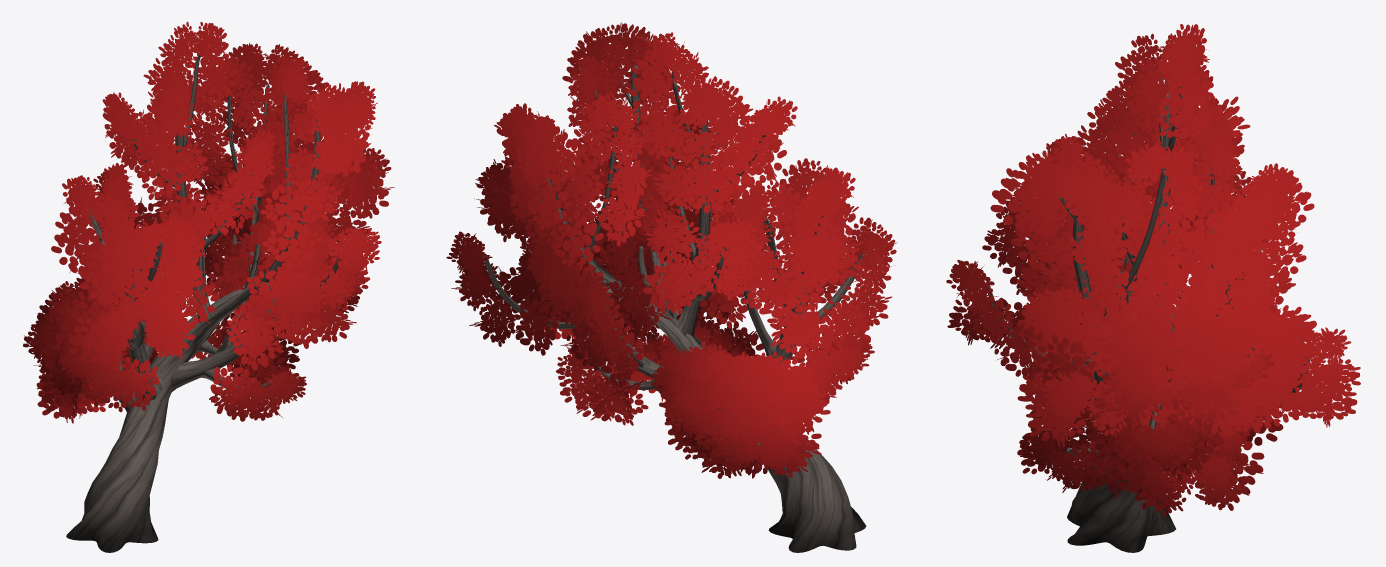
The model's file is TwistedTree_1.glb.
3 renders of one model, left to right at view 1: azimuth 30°, elevation 25°; view 2: azimuth 150°, elevation 25°; view 3: azimuth 270°, elevation 25°, orthographic. The views are drawn at different scales.
Parts seen in each view (by area): view 1: TwistedTree_1; view 2: TwistedTree_1; view 3: TwistedTree_1.
Boxes of the visible parts, box(x1,y1,x2,y2) form: TwistedTree_1: box(23, 21, 394, 552); TwistedTree_1: box(446, 22, 897, 552); TwistedTree_1: box(946, 24, 1360, 552).
Size of the model in its own units: 13.52 by 16.73 by 11.55.
2 materials, 2 textured.
